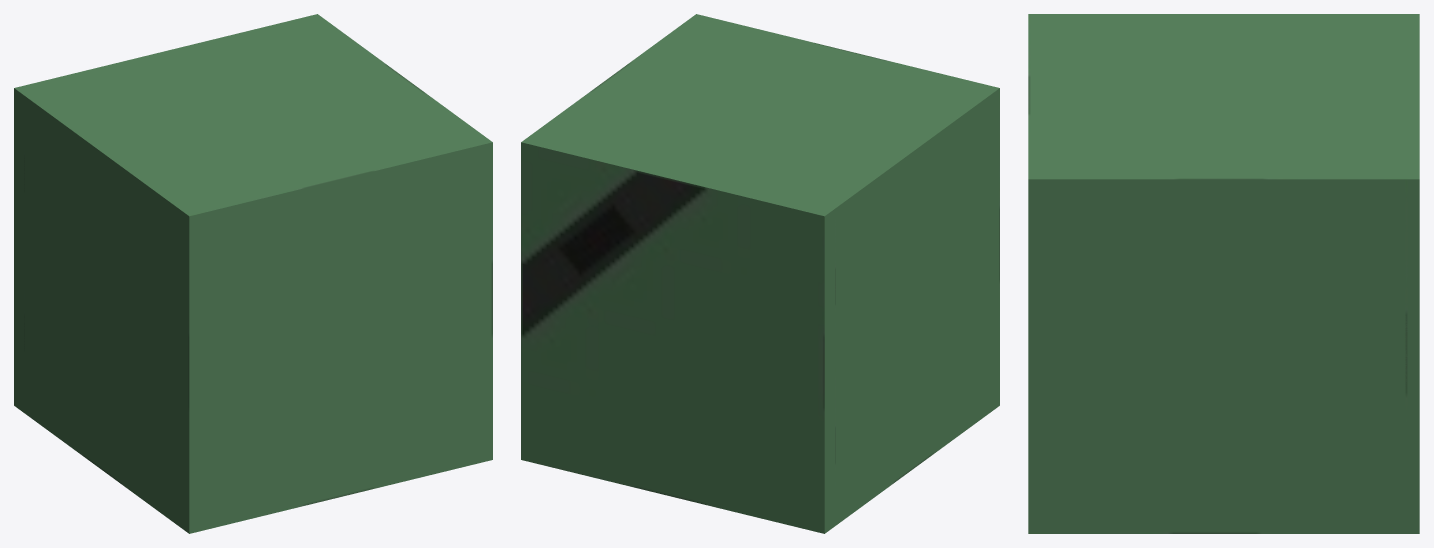
File: trackdiagupleft.obj
3 views of the same model, side by side, from view 1: azimuth 30°, elevation 25°; view 2: azimuth 150°, elevation 25°; view 3: azimuth 270°, elevation 25° (orthographic). The views are drawn at different scales.
Parts seen in each view (by area): view 1: generalCube, off; view 2: generalCube, off; view 3: generalCube, off.
Boxes of the visible parts, left/top/right/bottom form: generalCube: left=19, top=18, right=492, bottom=533; off: left=14, top=14, right=327, bottom=413; generalCube: left=527, top=14, right=999, bottom=525; off: left=521, top=134, right=835, bottom=533; generalCube: left=1028, top=14, right=1407, bottom=533; off: left=1395, top=14, right=1419, bottom=533.
Size of the model in its own units: 1 by 1 by 1.
Materials: 2 (1 with a texture image).
